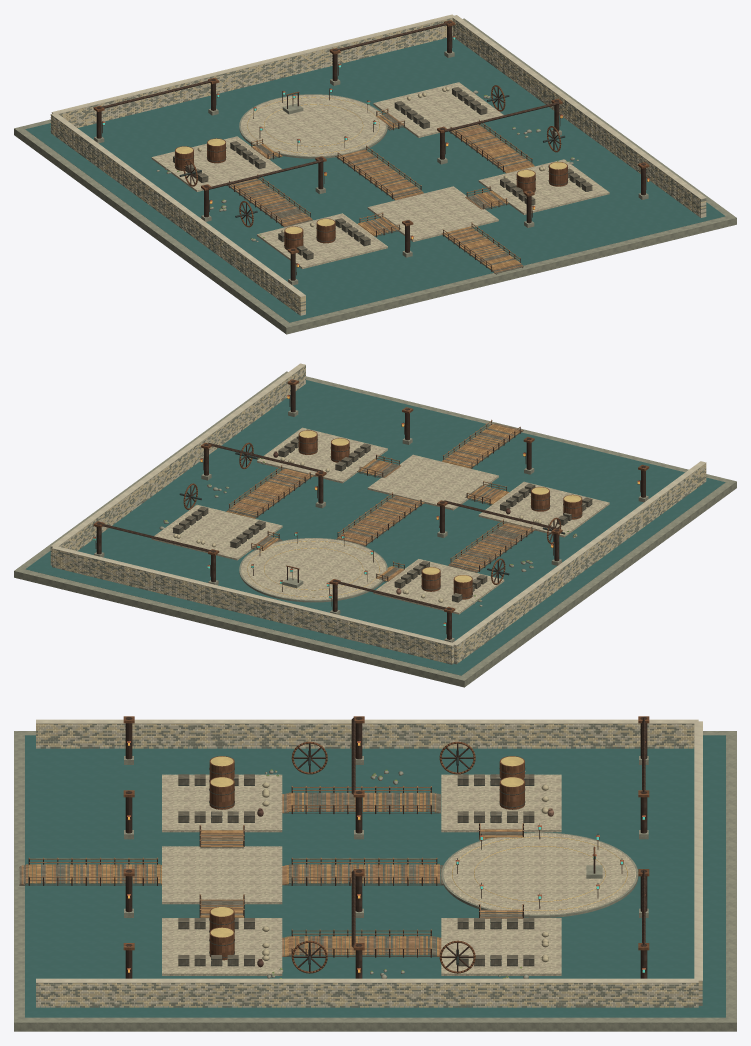
Rendered from mill-cellar.glb.
3 views of the same model, one above another, from view 1: azimuth 30°, elevation 25°; view 2: azimuth 150°, elevation 25°; view 3: azimuth 270°, elevation 25° (orthographic). The views are drawn at different scales.
Visible parts, largest first — view 1: Water surface | water, Raised flagstone rooms | paving, Cellar foundation | stone, Boundary / individual masonry blocks | stone, Boundary / individual masonry blocks | plaster, Boundary / individual masonry blocks | wall, Spirit arena paved surface | paving, Boundary / wall coping | plaster, Bridge / separate deck boards | wood_weathered, Bridge / separate deck boards | plank, Bridge / separate deck boards | wood_light, Warehouse storage crates | wood_weathered (+10 smaller); view 2: Water surface | water, Raised flagstone rooms | paving, Cellar foundation | stone, Boundary / individual masonry blocks | plaster, Boundary / individual masonry blocks | stone, Boundary / individual masonry blocks | wall, Spirit arena paved surface | paving, Boundary / wall coping | plaster, Bridge / separate deck boards | wood_weathered, Bridge / separate deck boards | plank, Bridge / separate deck boards | wood_light, Warehouse storage crates | wood_weathered (+10 smaller); view 3: Water surface | water, Raised flagstone rooms | paving, Cellar foundation | stone, Boundary / individual masonry blocks | stone, Boundary / individual masonry blocks | wall, Boundary / individual masonry blocks | plaster, Spirit arena paved surface | paving, Boundary / wall coping | plaster, Bridge / separate deck boards | wood_weathered, Bridge / separate deck boards | plank, Bridge / separate deck boards | wood_light, Warehouse storage crates | wood_weathered (+15 smaller).
Part boxes in pixels (x1,y1,x2,y2): Water surface | water: (25, 37, 725, 322); Raised flagstone rooms | paving: (151, 82, 609, 268); Cellar foundation | stone: (14, 18, 736, 334); Boundary / individual masonry blocks | stone: (50, 18, 706, 314); Boundary / individual masonry blocks | plaster: (50, 18, 706, 315); Boundary / individual masonry blocks | wall: (50, 18, 706, 312); Spirit arena paved surface | paving: (241, 95, 386, 156); Boundary / wall coping | plaster: (50, 14, 706, 297); Bridge / separate deck boards | wood_weathered: (228, 113, 528, 273); Bridge / separate deck boards | plank: (229, 115, 534, 269); Bridge / separate deck boards | wood_light: (227, 113, 532, 272); Warehouse storage crates | wood_weathered: (173, 87, 592, 259); Water surface | water: (25, 380, 725, 675); Raised flagstone rooms | paving: (151, 427, 609, 614); Cellar foundation | stone: (14, 371, 736, 687); Boundary / individual masonry blocks | plaster: (50, 369, 706, 662); Boundary / individual masonry blocks | stone: (50, 365, 706, 664); Boundary / individual masonry blocks | wall: (50, 366, 706, 663); Spirit arena paved surface | paving: (241, 538, 385, 599); Boundary / wall coping | plaster: (50, 363, 706, 645); Bridge / separate deck boards | wood_weathered: (227, 423, 534, 580); Bridge / separate deck boards | plank: (226, 424, 531, 581); Bridge / separate deck boards | wood_light: (233, 423, 535, 581); Warehouse storage crates | wood_weathered: (173, 429, 592, 602); Water surface | water: (25, 735, 725, 1017); Raised flagstone rooms | paving: (162, 774, 561, 975); Cellar foundation | stone: (14, 731, 736, 1031); Boundary / individual masonry blocks | stone: (36, 724, 702, 1007); Boundary / individual masonry blocks | wall: (36, 724, 702, 1007); Boundary / individual masonry blocks | plaster: (36, 724, 702, 1007); Spirit arena paved surface | paving: (443, 833, 636, 914); Boundary / wall coping | plaster: (36, 719, 702, 982); Bridge / separate deck boards | wood_weathered: (19, 792, 522, 955); Bridge / separate deck boards | plank: (28, 792, 522, 956); Bridge / separate deck boards | wood_light: (21, 792, 523, 956); Warehouse storage crates | wood_weathered: (178, 774, 534, 966).
Bounding box in the file's own units: 126 × 11.05 × 132.
Materials: 21 (21 with a texture image).
